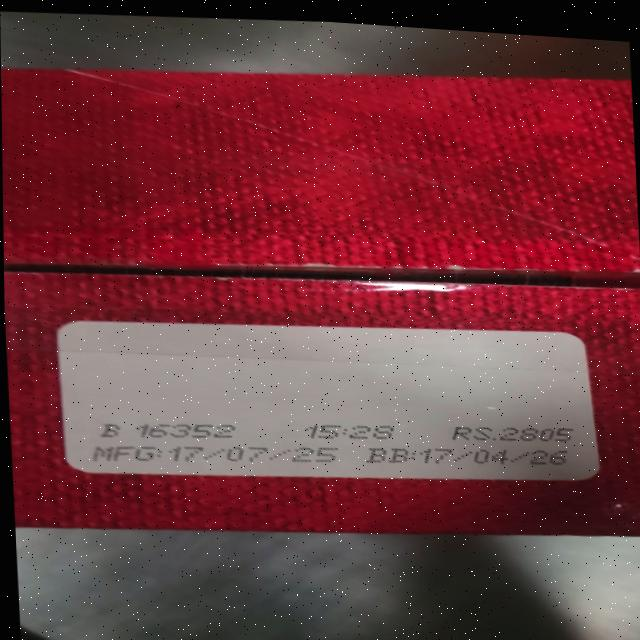BB: (360, 434, 577, 476)
Batch: (100, 413, 240, 447)
MFG: (85, 428, 346, 479)
RS: (451, 420, 577, 448)
TimeStamp: (297, 418, 395, 444)
